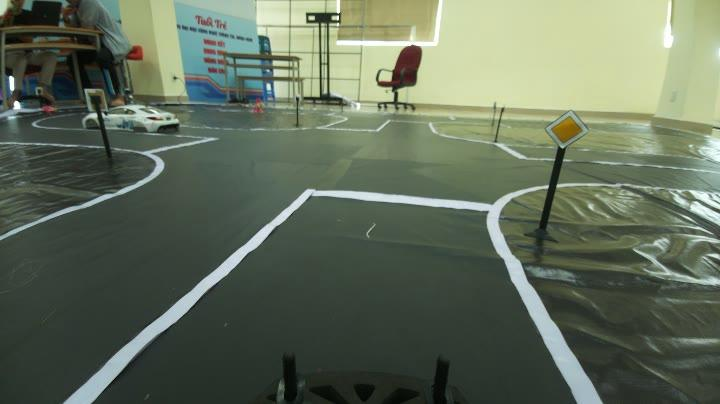priority: (538, 110, 601, 152)
